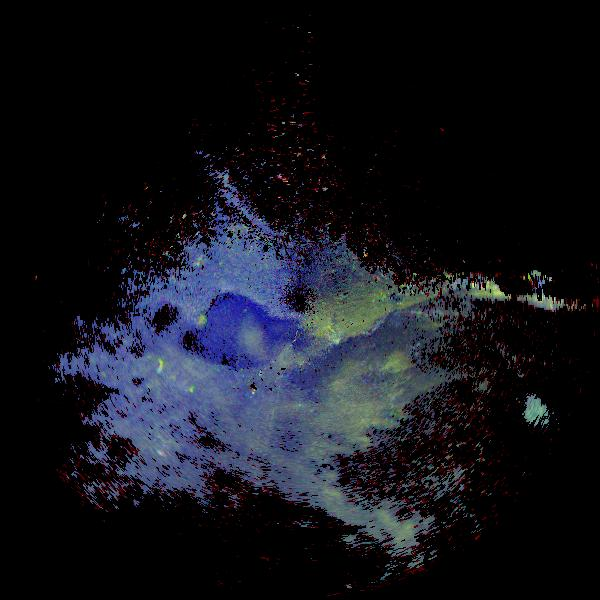roost: (178, 303, 220, 345), (151, 350, 178, 377)
